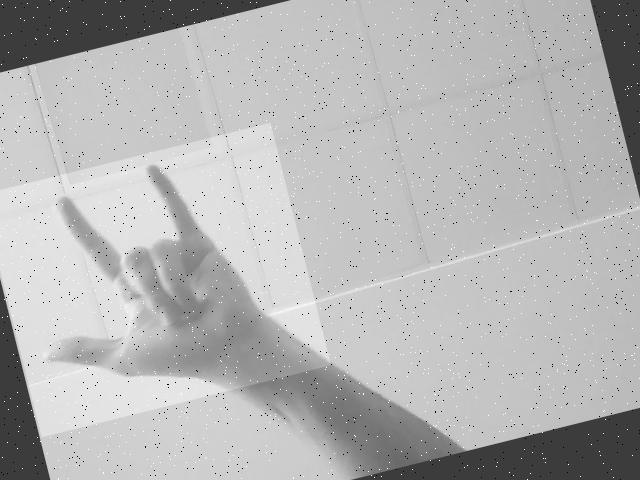I_Love_You: (0, 122, 330, 437)
